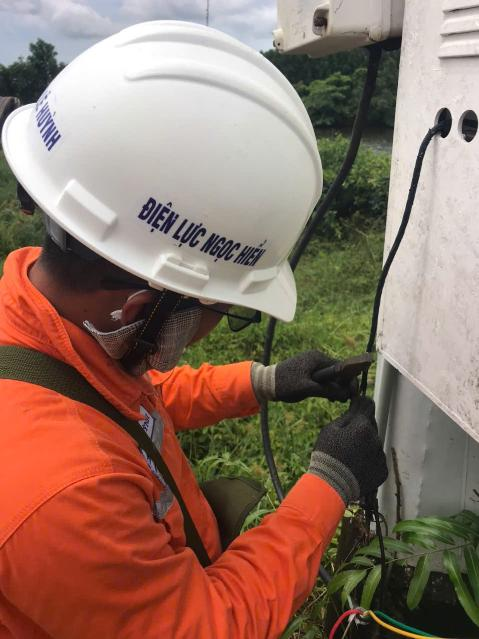gloves: (283, 396, 403, 513), (251, 340, 378, 407)
helmet: (0, 0, 335, 336)
